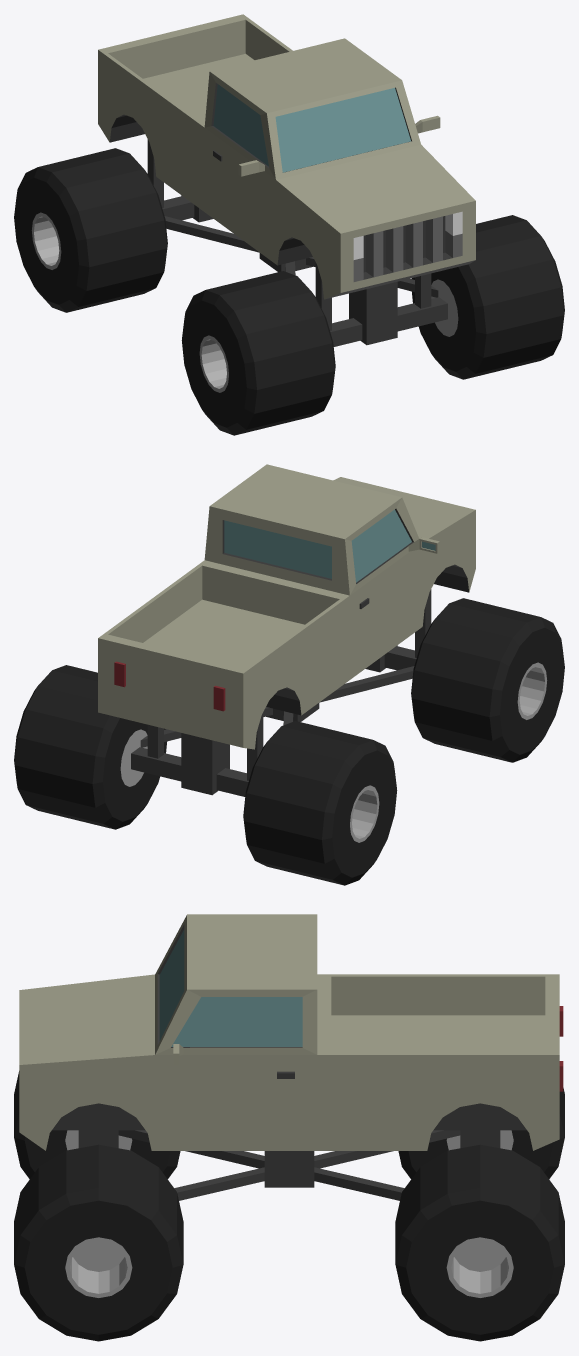
Rendered from MonsterTruck(Old).fbx.
3 renders of one model, top to bottom at view 1: azimuth 30°, elevation 25°; view 2: azimuth 150°, elevation 25°; view 3: azimuth 270°, elevation 25°, orthographic. The views are drawn at different scales.
Parts seen in each view (by area): view 1: Main, FRightTire, RRightTire, FLeftTire; view 2: Main, RRightTire, FRightTire, RLeftTire; view 3: Main, FLeftTire, RLeftTire, FRightTire, RRightTire.
Boxes of the visible parts, x1=… form: Main: x1=98, y1=14, x2=475, y2=346; FRightTire: x1=181, y1=271, x2=335, y2=435; RRightTire: x1=14, y1=148, x2=167, y2=312; FLeftTire: x1=411, y1=215, x2=564, y2=379; Main: x1=98, y1=464, x2=475, y2=796; RRightTire: x1=243, y1=721, x2=397, y2=885; FRightTire: x1=411, y1=598, x2=564, y2=762; RLeftTire: x1=14, y1=665, x2=167, y2=829; Main: x1=19, y1=914, x2=563, y2=1200; FLeftTire: x1=14, y1=1144, x2=183, y2=1341; RLeftTire: x1=395, y1=1144, x2=564, y2=1341; FRightTire: x1=14, y1=1071, x2=180, y2=1179; RRightTire: x1=398, y1=1088, x2=564, y2=1179.
Size of the model in its own units: 315 by 254 by 416.
